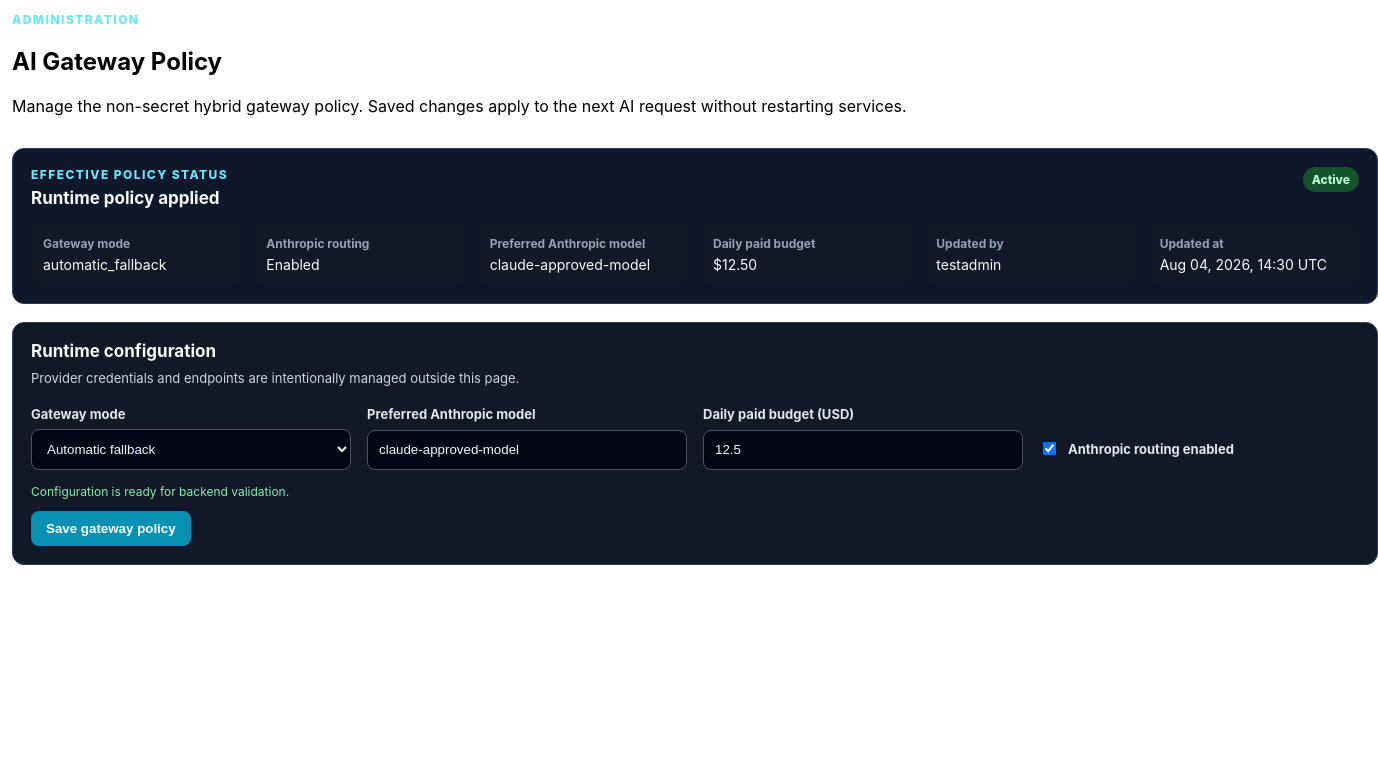
Test: shows backend validation errors without replacing the current policy
Click the button "Save gateway policy". click: {"x": 111, "y": 528}
box: [31,511,191,546]
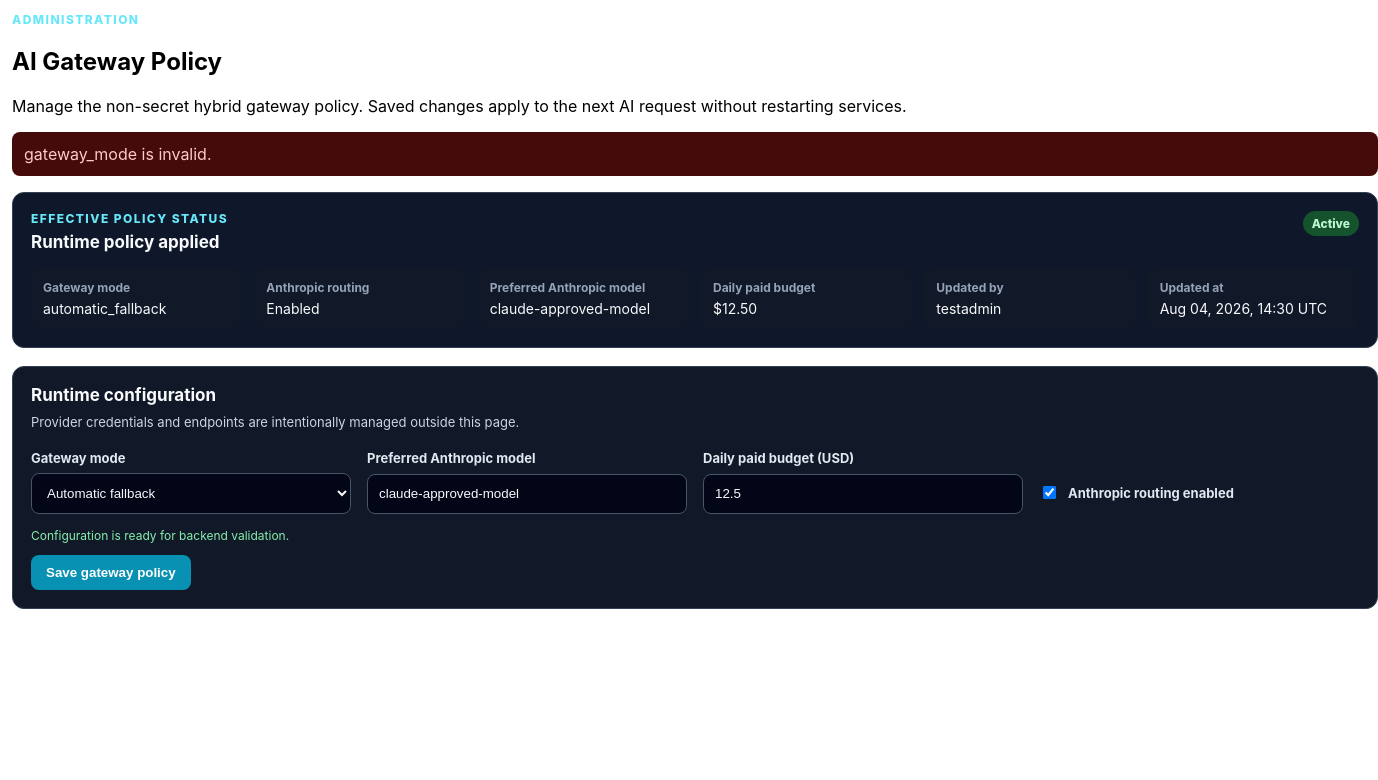
Expected: the dropdown labelled "Gateway mode" shows "Automatic fallback", [31,473,351,514]
Expected: the message reads "gateway_mode is invalid.", [24,144,212,164]
